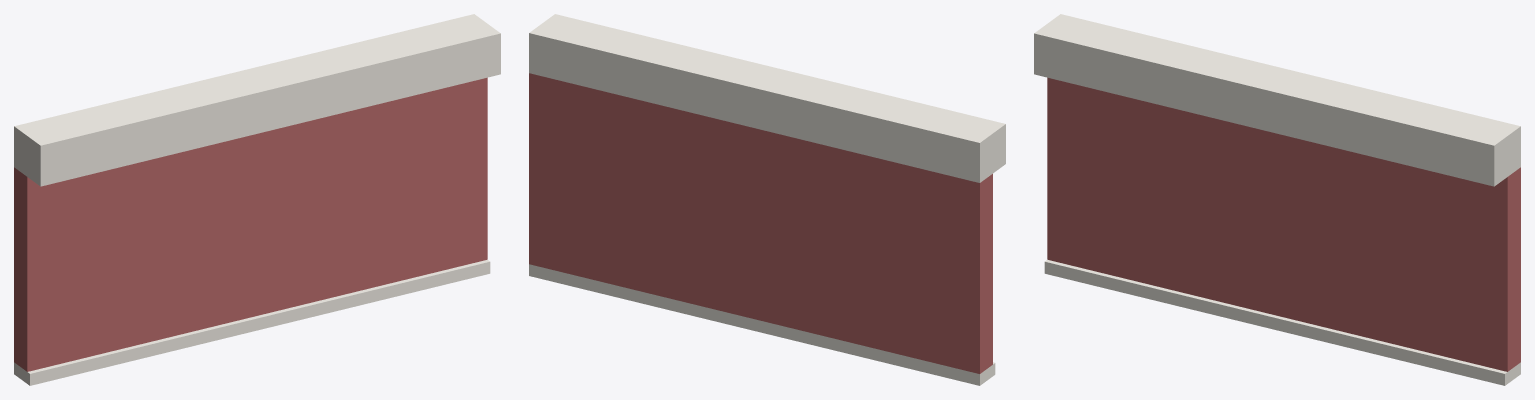
File: shop_fascia.glb
The picture shows the model from 3 angles, left to right: view 1: azimuth 30°, elevation 25°; view 2: azimuth 150°, elevation 25°; view 3: azimuth 330°, elevation 25°; orthographic projection. The views are drawn at different scales.
Visible parts, largest first — view 1: shop_fascia_shop_paint, shop_fascia_trim; view 2: shop_fascia_shop_paint, shop_fascia_trim; view 3: shop_fascia_shop_paint, shop_fascia_trim.
Boxes of the visible parts, box(x1,y1,x2,y2) form: shop_fascia_shop_paint: box(14, 77, 487, 371); shop_fascia_trim: box(14, 14, 500, 385); shop_fascia_shop_paint: box(529, 73, 992, 373); shop_fascia_trim: box(529, 14, 1005, 385); shop_fascia_shop_paint: box(1047, 77, 1520, 371); shop_fascia_trim: box(1034, 14, 1520, 385).
Size of the model in its own units: 2 by 1.03 by 0.2.
